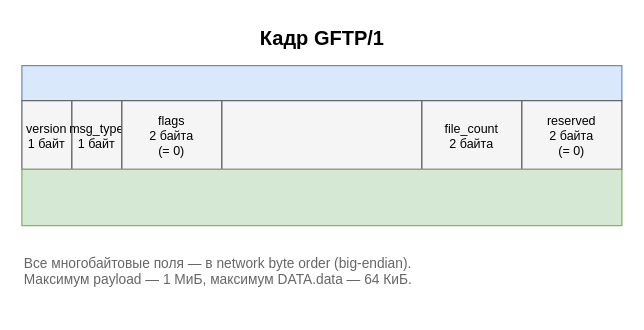
This 644x330 diagram has some shape labels left out. Each missing label, with the box of its shape:
Payload — payload_len байт: (21, 168, 622, 226)
payload_len 4 байта: (221, 99, 422, 169)
Заголовок — 12 байт: (21, 64, 622, 101)
